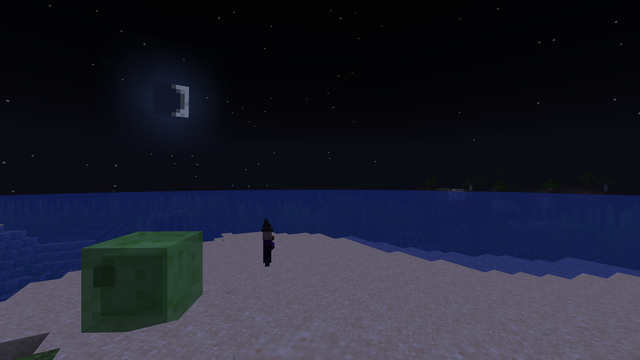slimes: (91, 226, 195, 331)
sorcieres: (260, 227, 274, 266)
